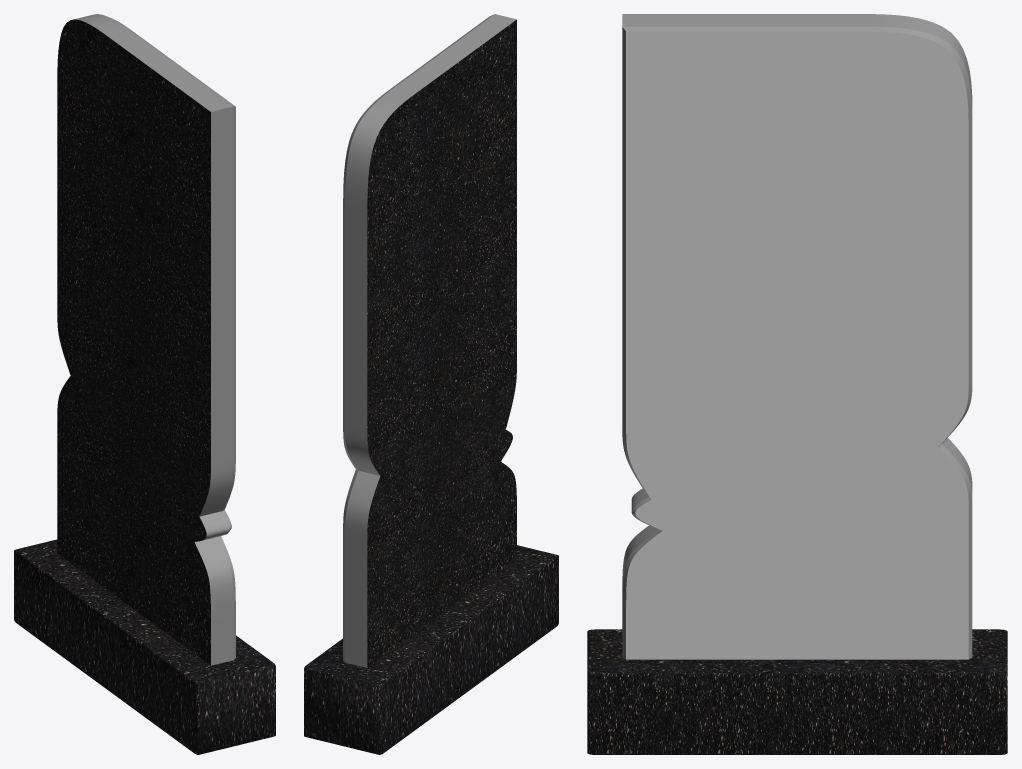
File: Памятник  Роза [granite_u_u_orthodox] (100).glb
3 renders of one model, left to right at view 1: azimuth 30°, elevation 25°; view 2: azimuth 150°, elevation 25°; view 3: azimuth 270°, elevation 25°, orthographic. The views are drawn at different scales.
Parts seen in each view (by area): view 1: Cube.015, Куб.002; view 2: Cube.015, Куб.002; view 3: Cube.015, Куб.002.
Boxes of the visible parts, x1,y1,x2,y2 form: Cube.015: [57, 14, 235, 665]; Куб.002: [14, 539, 275, 754]; Cube.015: [343, 14, 516, 667]; Куб.002: [304, 545, 558, 754]; Cube.015: [622, 14, 972, 659]; Куб.002: [587, 629, 1007, 754].
Size of the model in its own units: 0.15 by 1.12 by 0.6.
4 materials, 3 textured.
